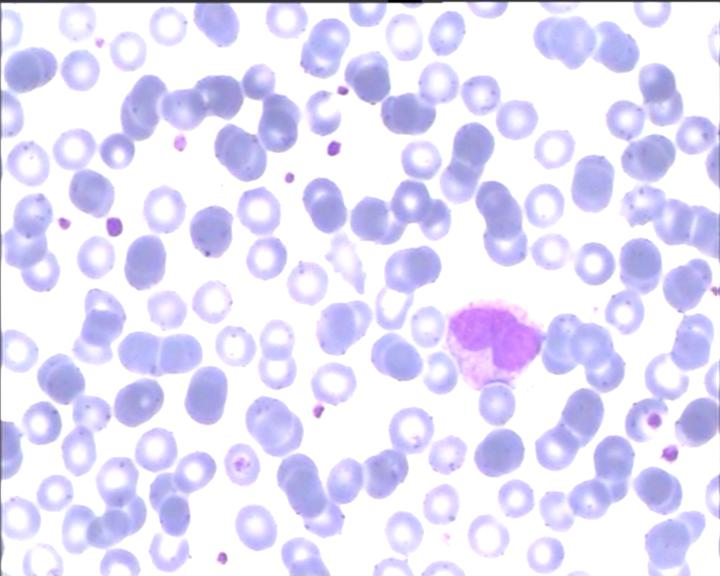mono: (447, 290, 549, 389)
